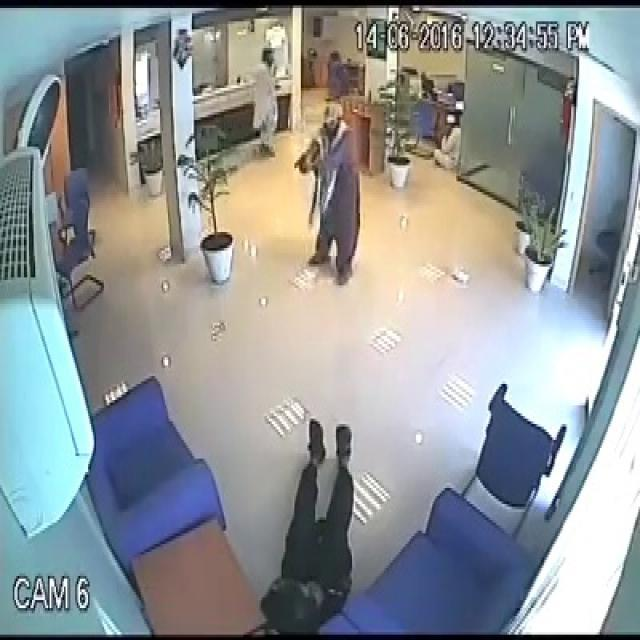weapon: (291, 152, 304, 171)
